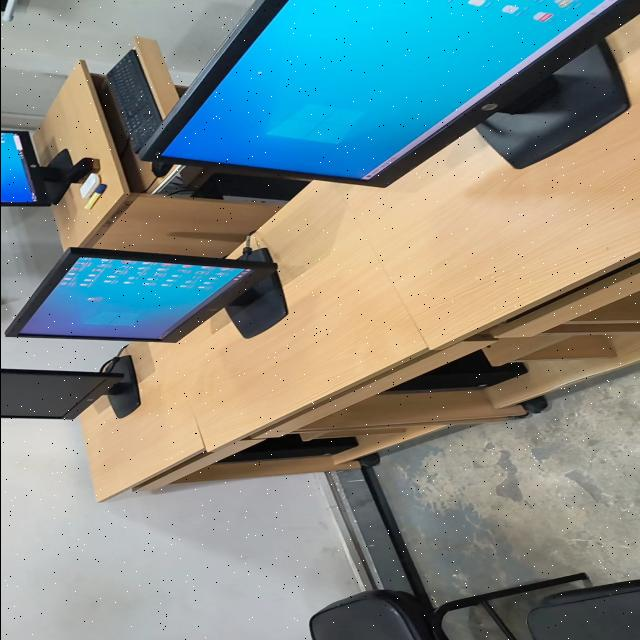Chair: (309, 573, 584, 640), (525, 579, 640, 640)
Cpu: (384, 350, 526, 392), (218, 434, 357, 463), (191, 174, 308, 204)
Keyboard: (105, 50, 162, 153)
Monitor: (139, 0, 640, 187), (5, 248, 284, 342), (0, 356, 139, 419), (0, 131, 72, 206)
Mouse: (150, 162, 171, 178)
